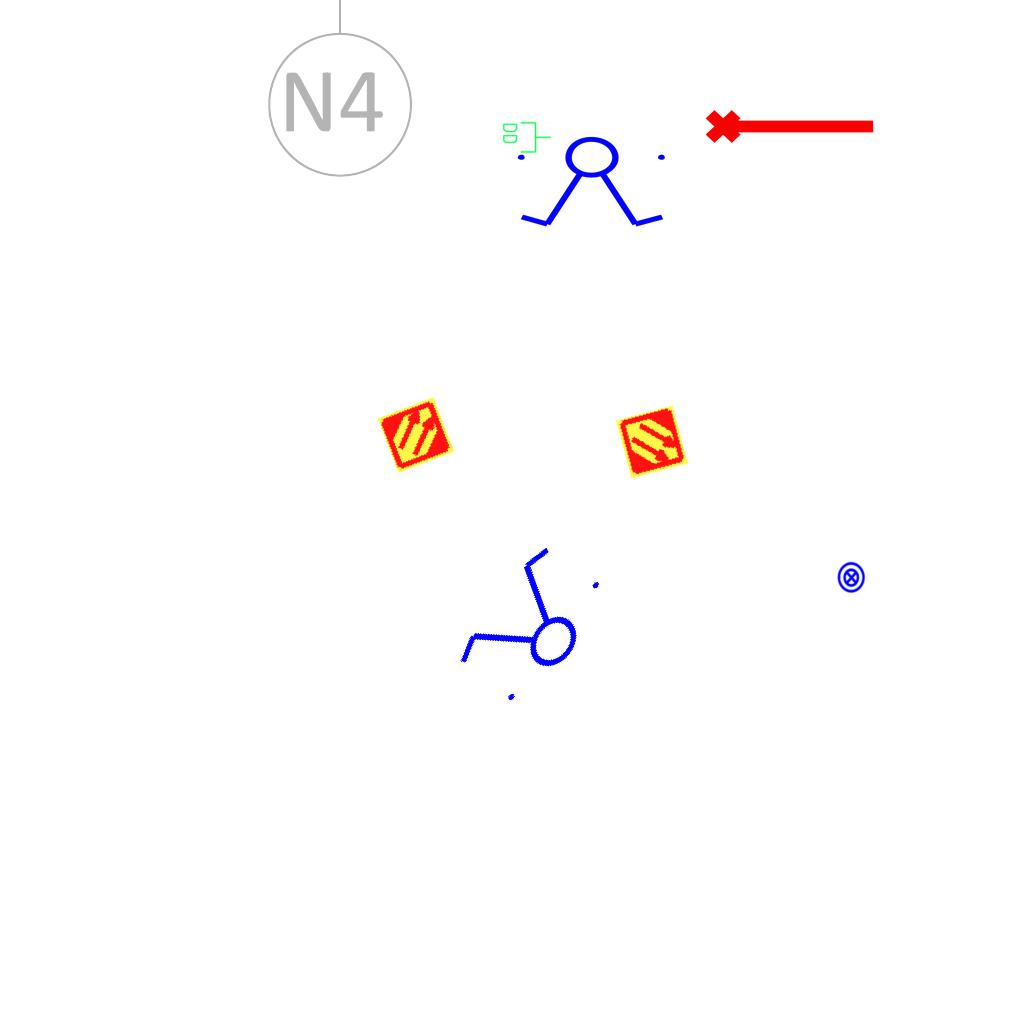ASR_Ansaugoeffnung: (703, 101, 879, 147)
ASR_Ansaugrauchmelder: (375, 394, 457, 476), (614, 404, 690, 480)
Datenanschluss_zweifach: (501, 120, 552, 154)
Serienschalter: (443, 531, 621, 723), (509, 135, 677, 231)
Taster_beleuchtet: (835, 561, 868, 594)
